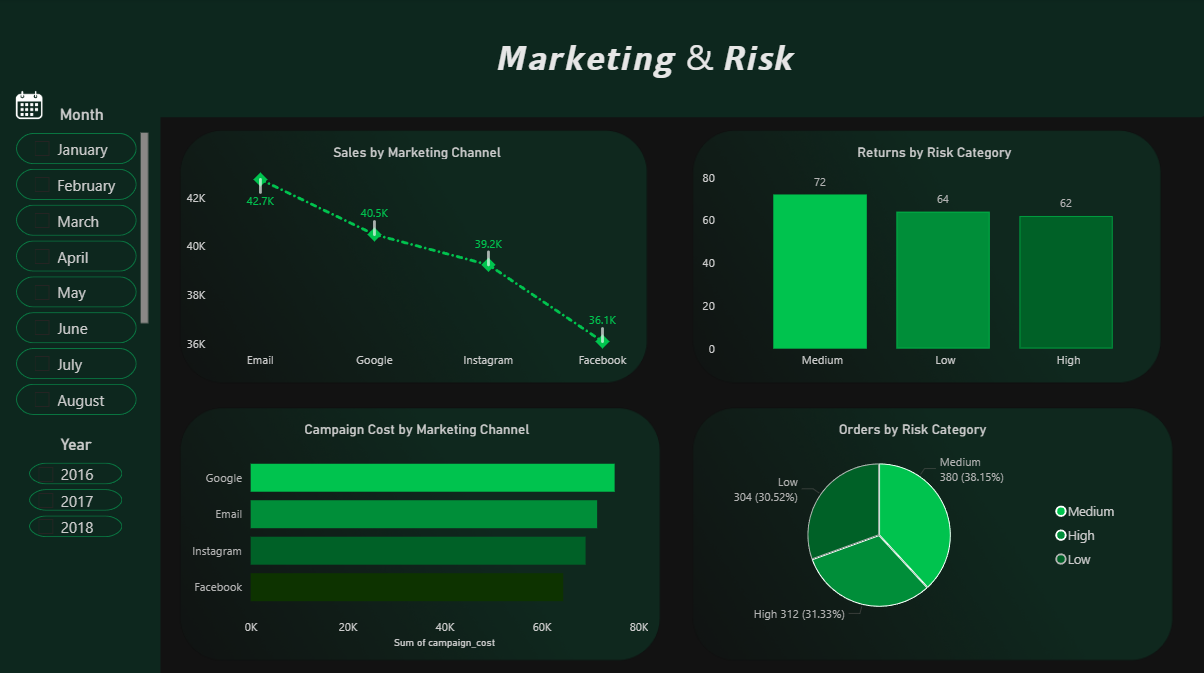

This screenshot's page, from the dashboard's own definition file:
{"tool":"powerbi","page":{"name":"Marketing & Risk","canvas":[1280,720],"ordinal":4},"visuals":[{"type":"lineChart","title":"Sales by Marketing Channel","fields":{"Category":["public dim_marketing.marketing_channel"],"Y":["public fact_sales.Total Sales"]},"box":[192.5,155.9,499.5,246.5],"z":0},{"type":"clusteredBarChart","title":"Campaign Cost by Marketing Channel","fields":{"Category":["public dim_marketing.marketing_channel"],"Y":["Sum(public dim_marketing.campaign_cost)"]},"box":[192.5,450.1,499.5,245],"z":1000},{"type":"pieChart","title":"Orders by Risk Category","fields":{"Category":["public dim_risk.risk_category"],"Y":["public fact_sales.Total Orders"]},"box":[739.6,450.1,456.5,224.3],"z":2000},{"type":"clusteredColumnChart","title":"Returns by Risk Category","fields":{"Category":["public dim_risk.risk_category"],"Y":["Sum(public dim_risk.return_flag)"]},"box":[739.6,155.9,502.6,246.5],"z":3000},{"type":"textbox","box":[469.2,31.8,340.4,71.6],"z":4000},{"type":"listSlicer","fields":{"Values":["public dim_date.full_date.Variation.Date Hierarchy.Month"]},"box":[11.1,114.5,151.1,335.6],"z":5000},{"type":"listSlicer","fields":{"Values":["public dim_date.full_date.Variation.Date Hierarchy.Year"]},"box":[25.4,463.9,109.8,256.1],"z":6000},{"type":"image","box":[0,84.3,62,60.4],"z":7000}]}

Visuals, with their boxes in screenshot pixels (x1, y1, x2, y2), scaled from the page's 1280x720 canvas onto the 1204x673 screenshot:
"Sales by Marketing Channel" lineChart: box=[181, 146, 651, 376]
"Campaign Cost by Marketing Channel" clusteredBarChart: box=[181, 421, 651, 650]
"Orders by Risk Category" pieChart: box=[696, 421, 1125, 630]
"Returns by Risk Category" clusteredColumnChart: box=[696, 146, 1168, 376]
textbox: box=[441, 30, 762, 97]
listSlicer - public dim_date.full_date.Variation.Date Hierarchy.Month: box=[10, 107, 153, 421]
listSlicer - public dim_date.full_date.Variation.Date Hierarchy.Year: box=[24, 434, 127, 672]
image: box=[0, 79, 58, 135]
